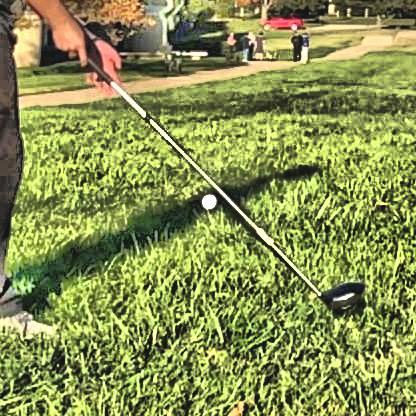golfball: (196, 188, 217, 207)
